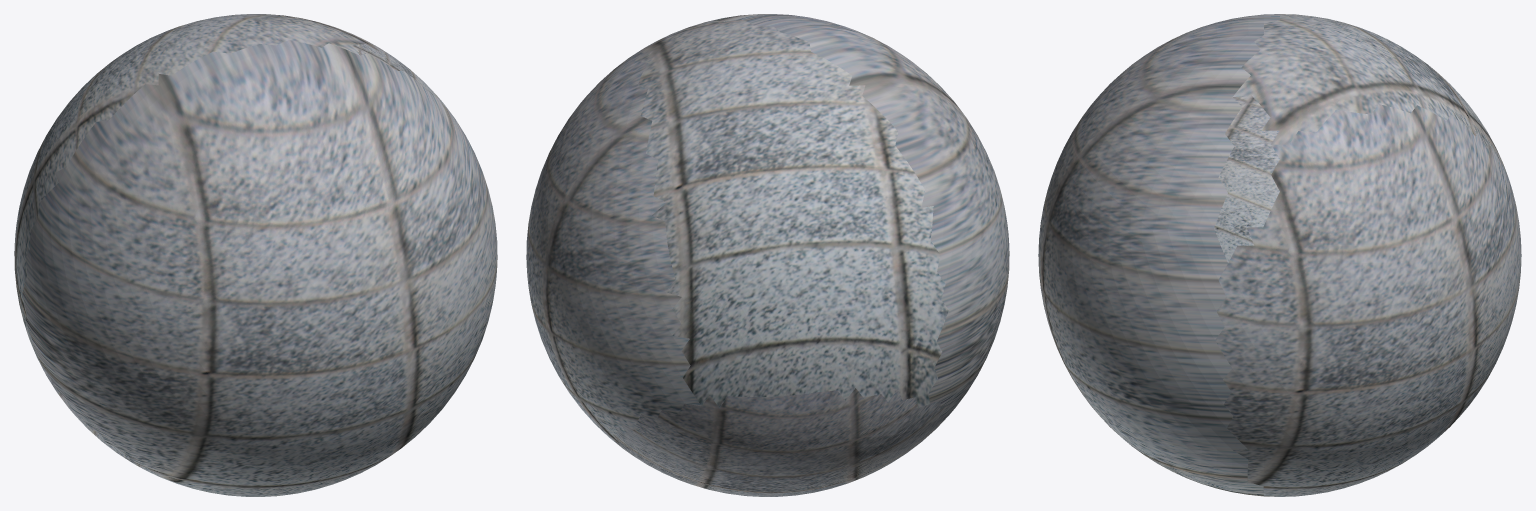
Rendered from ball.glb.
3 renders of one model, left to right at view 1: azimuth 30°, elevation 25°; view 2: azimuth 150°, elevation 25°; view 3: azimuth 270°, elevation 25°, orthographic.
Size of the model in its own units: 0.04 by 0.04 by 0.04.
1 material, 1 textured.
